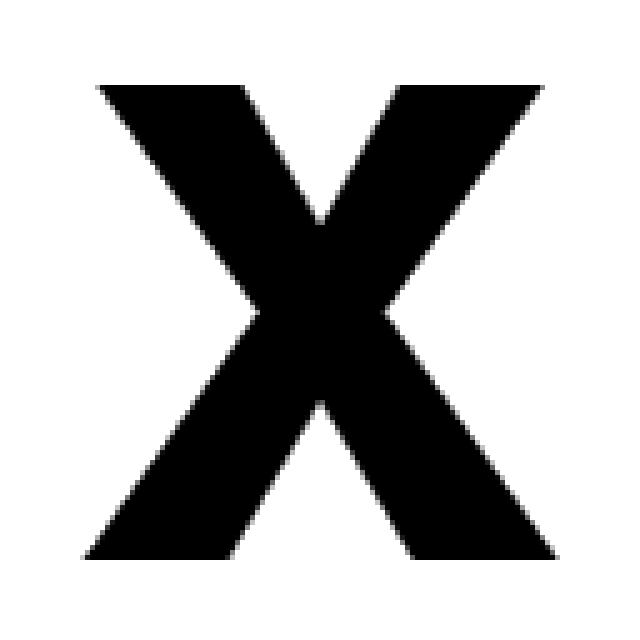X: (80, 75, 560, 565)
